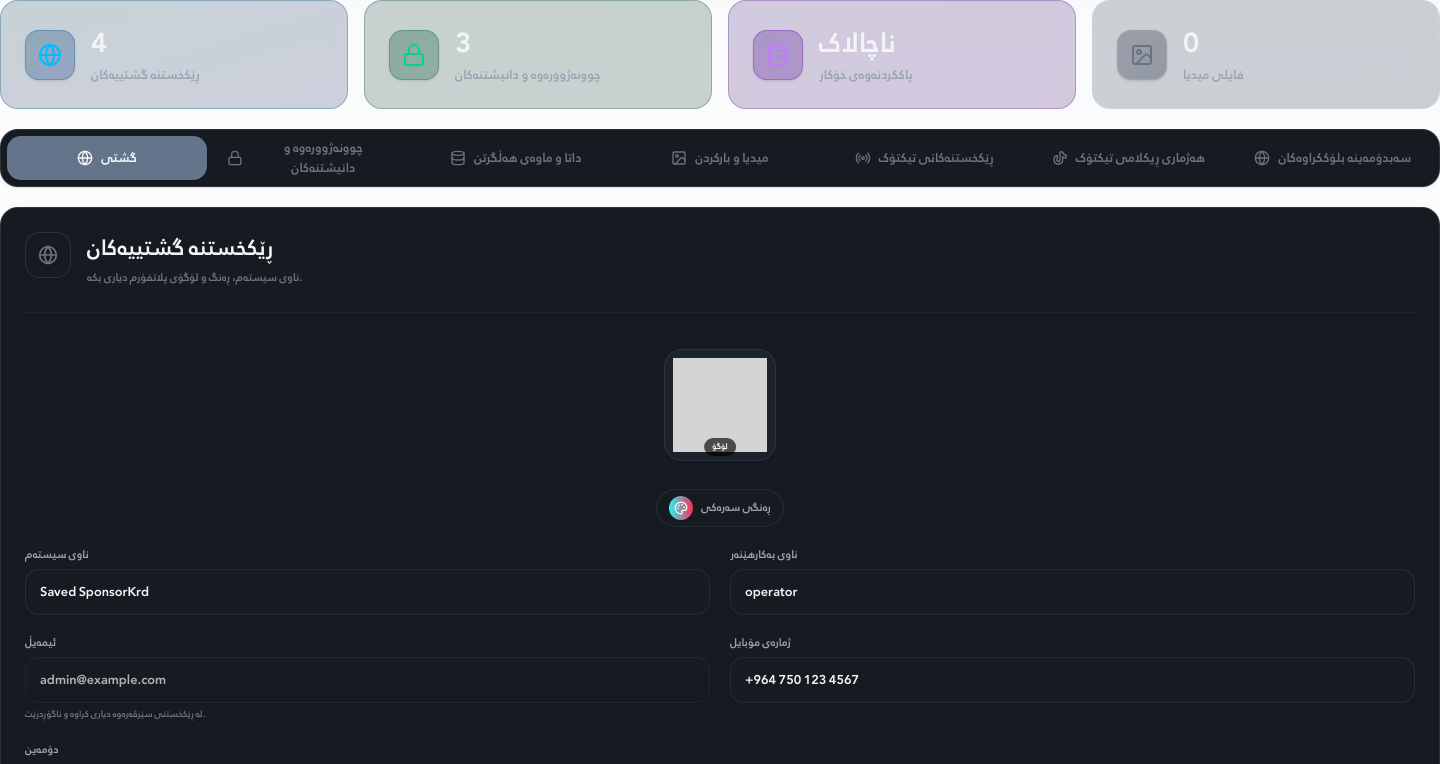
Scenario: PlatformSettingsPage General tab › loads the enforced media and uploads policy
Expected: the 1st field showing "Saved SponsorKrd" is shown, [25,568,710,614]
Click the tab "میدیا و بارکردن" at (720, 158), box [620,136,820,180]
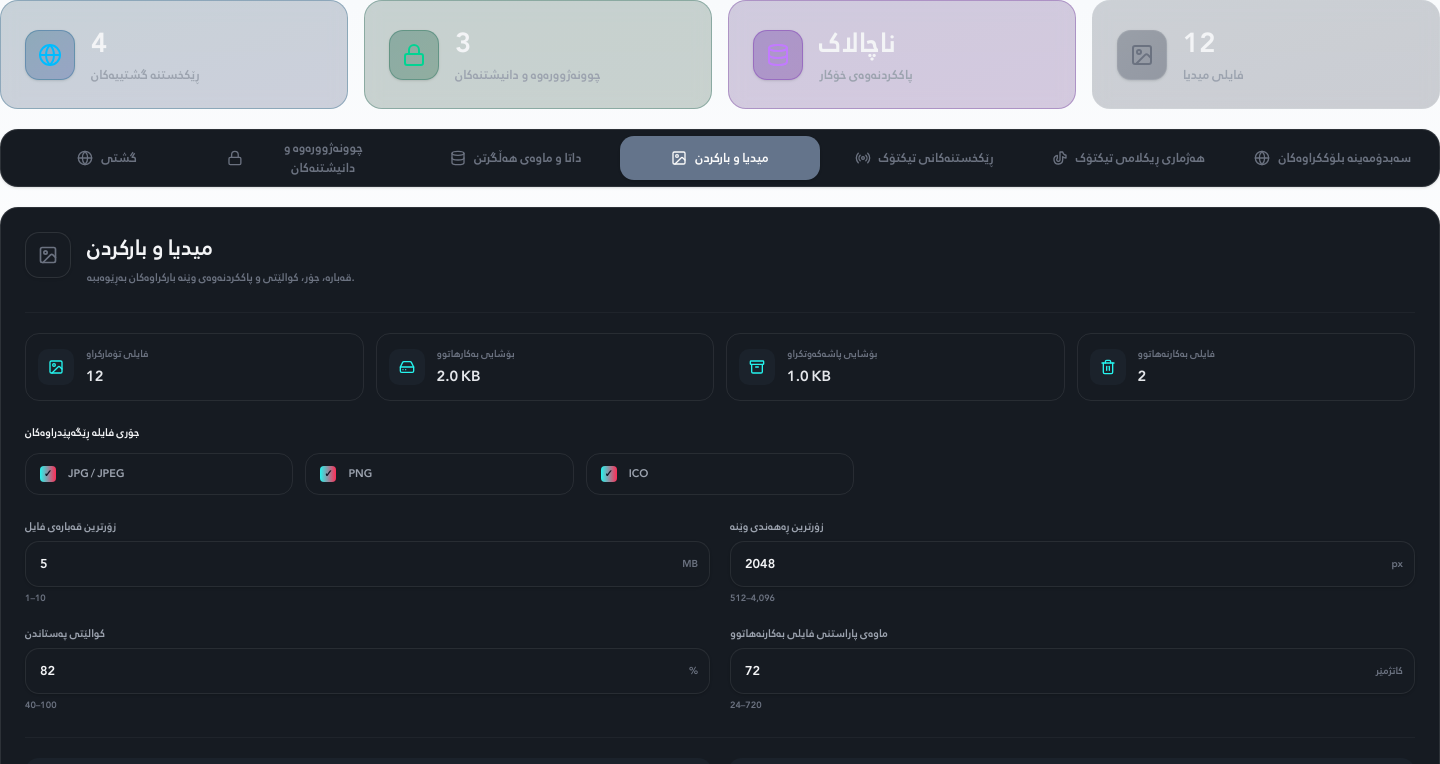
Now the text "جۆری فایلە ڕێگەپێدراوەکان" is shown, box [25,423,140,442]
Now the number field showing "2048" next to "px" is shown, box [730,541,1415,587]
Now the checkbox labelled "JPG / JPEG" is checked, box [25,453,293,495]
